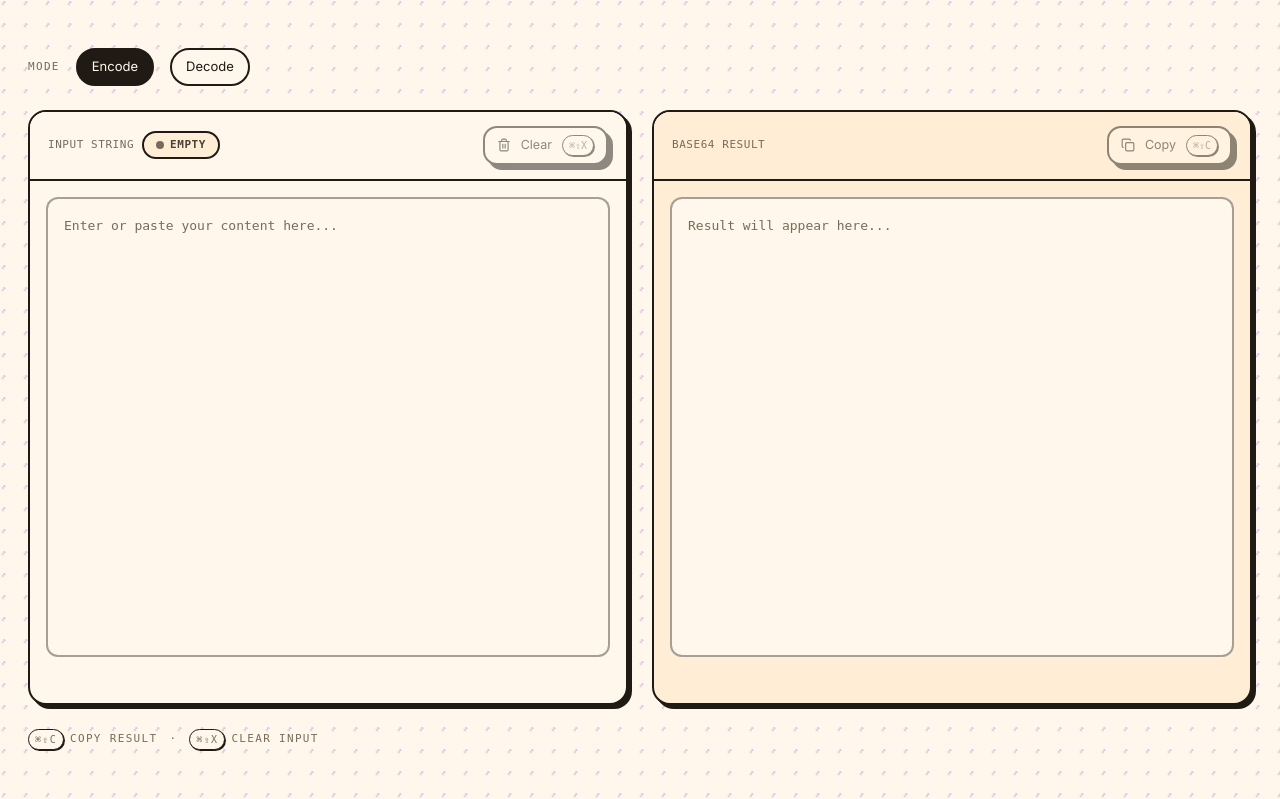
Test case: Base64EncoderRoute › mode toggle re-converts existing input
In the text box with id "base64-input": (328, 426) [46,196,610,656], type "Hello"
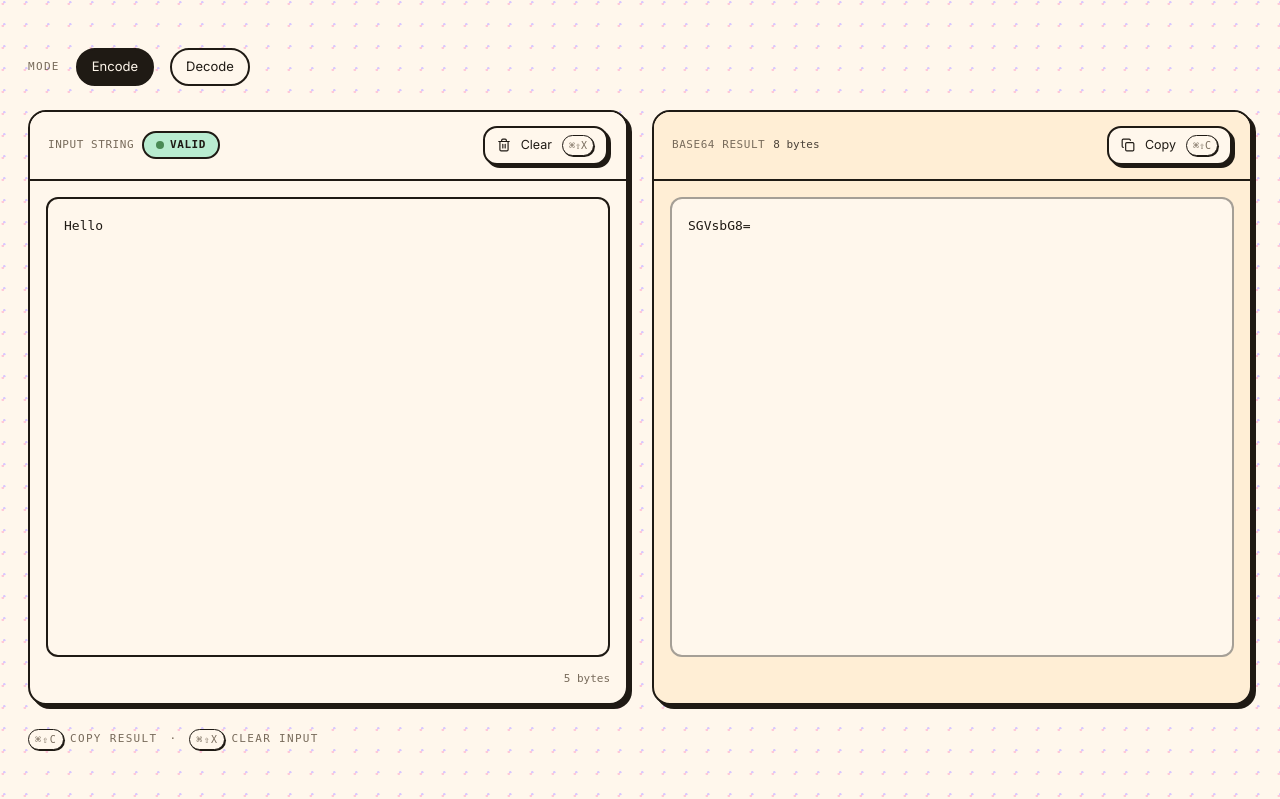
Check: the text box with id "base64-output" holds "SGVsbG8=", box [670,196,1234,656]
Click the button "Decode": click(210, 67) [170,48,250,86]
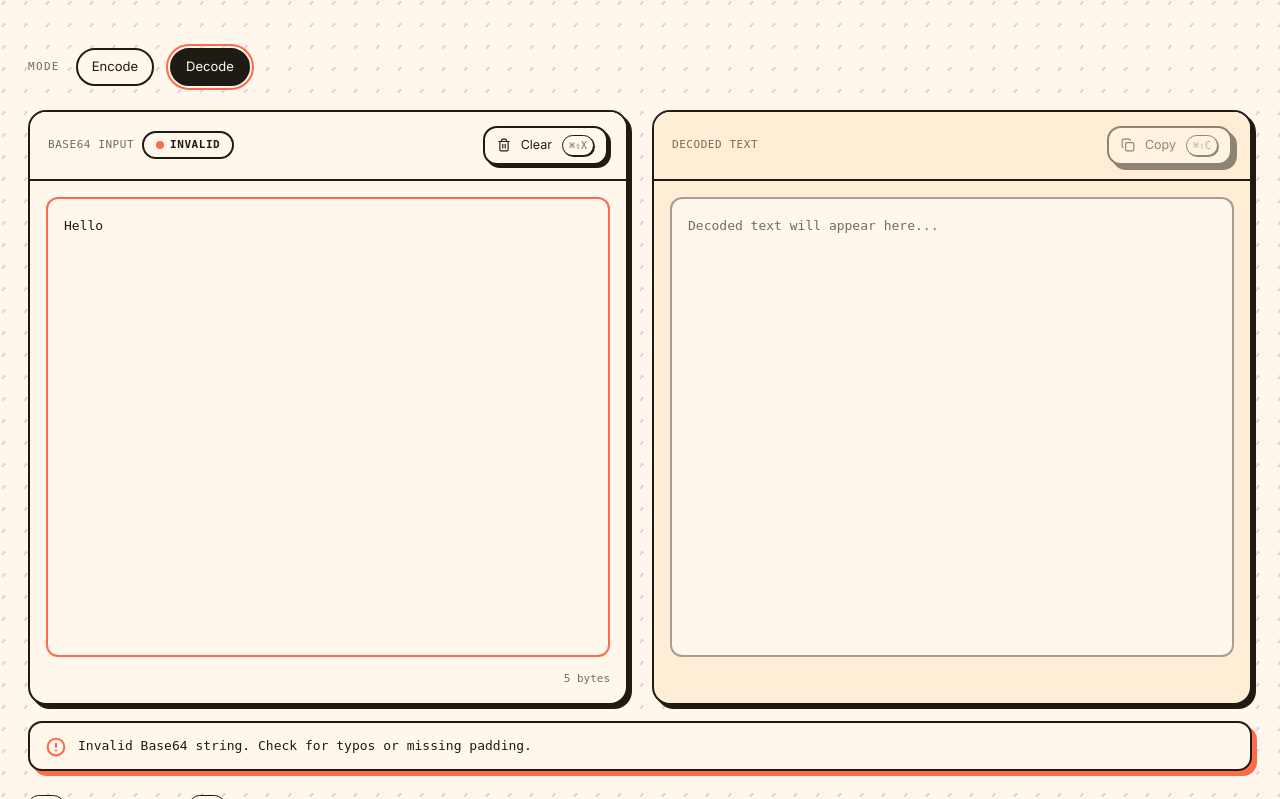
Check: the text "Invalid Base64 string. Check for typos or missing padding." is shown, box [78,738,532,753]
